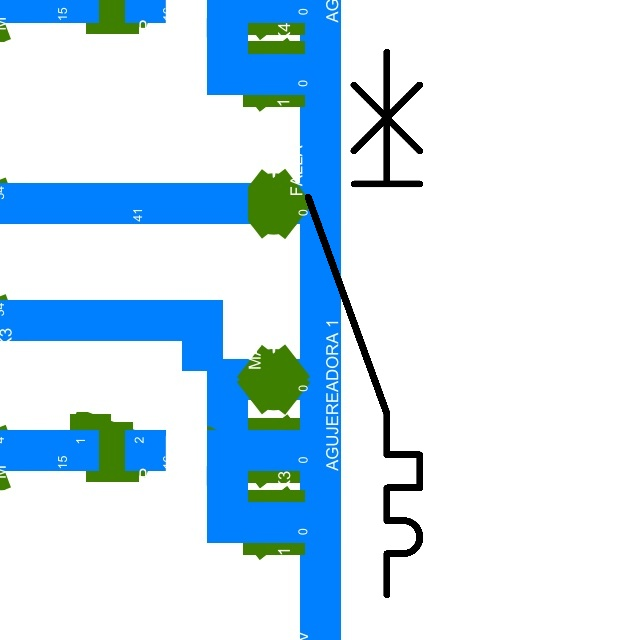interruptor_termomagnetico: (294, 38, 434, 609)
